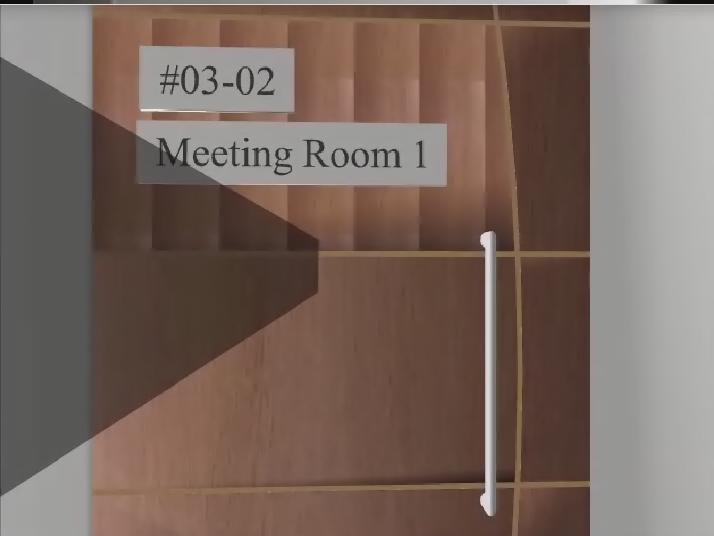door: (93, 6, 591, 536)
